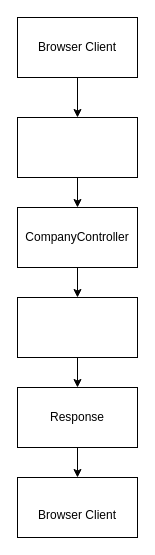
This 155x555 diagram has some shape labels left out. Each missing label, with the centre of its shape:
Blade View: point (77, 327)
Route: point (77, 147)
